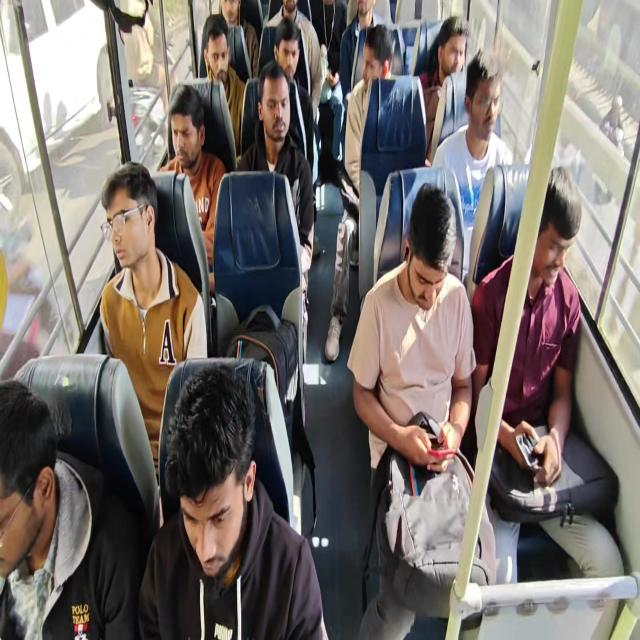person: (347, 181, 496, 638), (470, 163, 624, 586), (137, 364, 329, 639), (0, 377, 144, 639), (99, 161, 208, 485), (324, 24, 395, 362), (235, 60, 315, 308), (430, 49, 514, 282), (157, 83, 228, 296), (298, 0, 347, 185), (266, 0, 324, 126), (419, 15, 468, 162), (271, 17, 315, 178), (199, 17, 246, 156), (339, 0, 394, 106), (219, 0, 259, 81)
